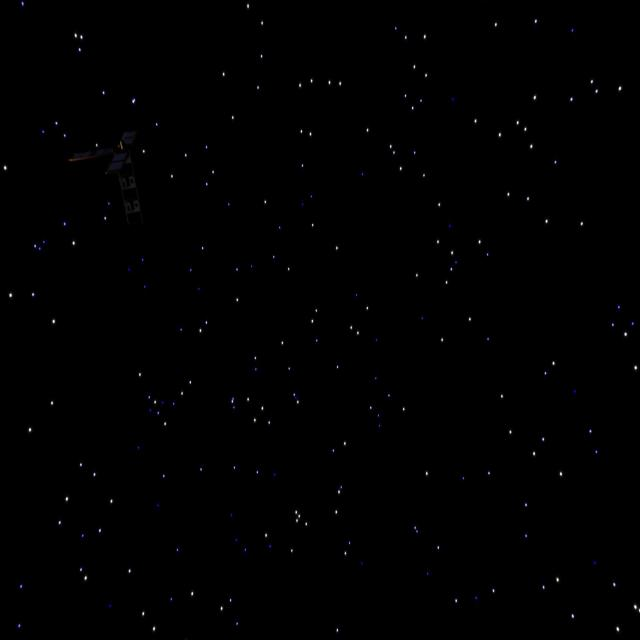medium_debris: (59, 115, 187, 231)
